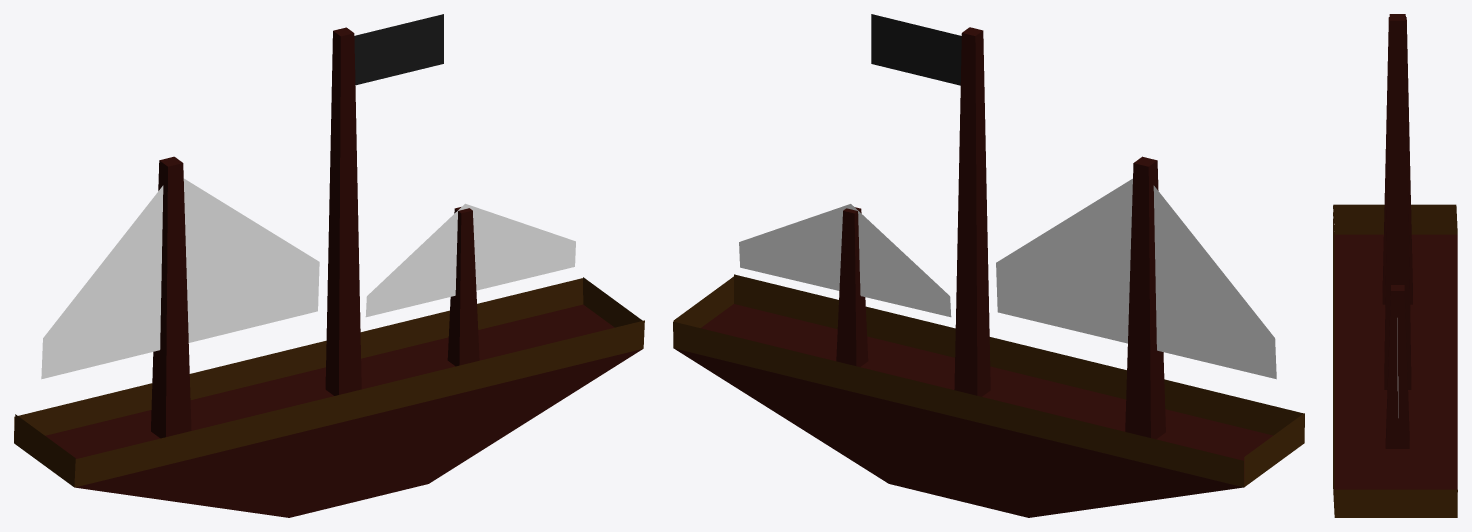
Rendered from flagship1f.obj.
The picture shows the model from 3 angles, left to right: view 1: azimuth 30°, elevation 25°; view 2: azimuth 150°, elevation 25°; view 3: azimuth 270°, elevation 25°; orthographic projection.
Parts seen in each view (by area): view 1: Cube, Plane.001, Cube.003, Plane, Cube.002, Plane.002, Cube.001; view 2: Cube, Plane.001, Cube.003, Plane, Cube.002, Plane.002, Cube.001; view 3: Cube, Cube.003, Cube.001, Cube.002.
Boxes of the visible parts, x1=… form: Cube: x1=14, y1=277, x2=644, y2=517; Plane.001: x1=41, y1=178, x2=319, y2=379; Cube.003: x1=325, y1=27, x2=361, y2=395; Plane: x1=365, y1=203, x2=575, y2=317; Cube.002: x1=151, y1=156, x2=191, y2=438; Plane.002: x1=354, y1=14, x2=443, y2=85; Cube.001: x1=447, y1=207, x2=479, y2=366; Cube: x1=673, y1=274, x2=1304, y2=517; Plane.001: x1=996, y1=178, x2=1276, y2=379; Cube.003: x1=954, y1=27, x2=990, y2=396; Plane: x1=739, y1=204, x2=951, y2=317; Cube.002: x1=1125, y1=156, x2=1165, y2=439; Plane.002: x1=871, y1=14, x2=961, y2=85; Cube.001: x1=836, y1=207, x2=868, y2=366; Cube: x1=1333, y1=204, x2=1457, y2=517; Cube.003: x1=1384, y1=14, x2=1411, y2=389; Cube.001: x1=1385, y1=285, x2=1409, y2=448; Cube.002: x1=1382, y1=17, x2=1412, y2=304.
Bounding box in the file's own units: 14.46 × 10.68 × 2.68.
